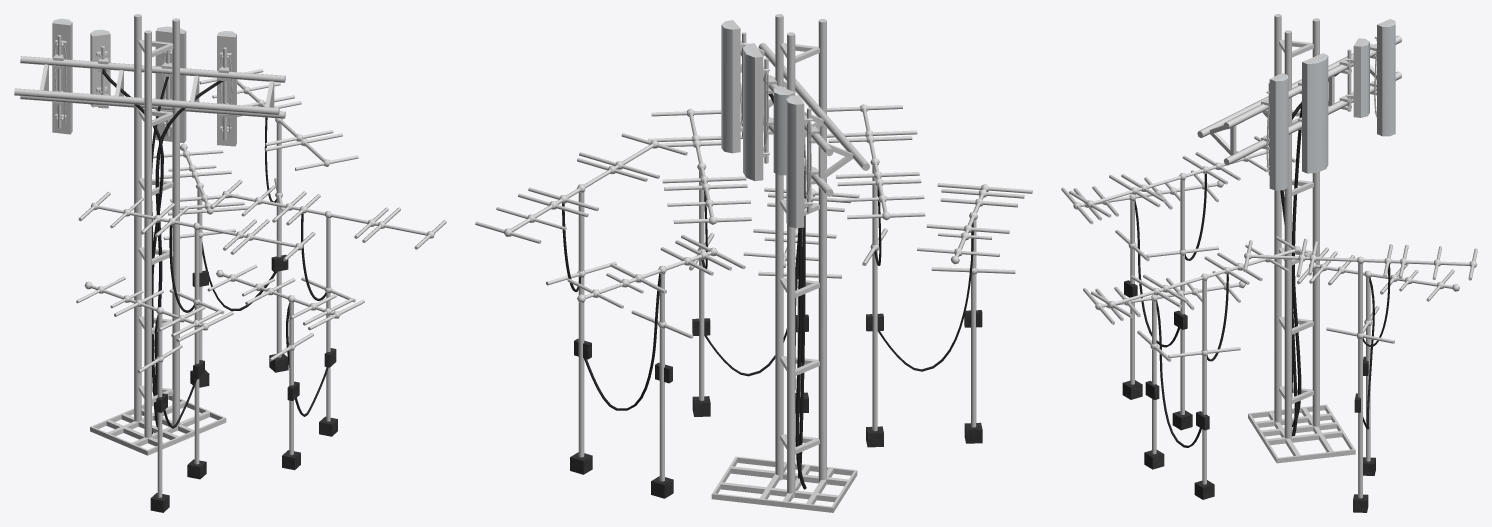
The model's file is KB3D_NTT_RooftopPart_B.fbx.
3 renders of one model, left to right at view 1: azimuth 30°, elevation 25°; view 2: azimuth 150°, elevation 25°; view 3: azimuth 270°, elevation 25°, orthographic. The views are drawn at different scales.
Visible parts, largest first — view 1: KB3D_NTT_RooftopPart_B_Main; view 2: KB3D_NTT_RooftopPart_B_Main; view 3: KB3D_NTT_RooftopPart_B_Main.
Part boxes in pixels (left/top/right/bottom): KB3D_NTT_RooftopPart_B_Main: left=14, top=14, right=446, bottom=512; KB3D_NTT_RooftopPart_B_Main: left=475, top=14, right=1032, bottom=512; KB3D_NTT_RooftopPart_B_Main: left=1061, top=14, right=1477, bottom=512.
Size of the model in its own units: 854 by 993 by 907.
